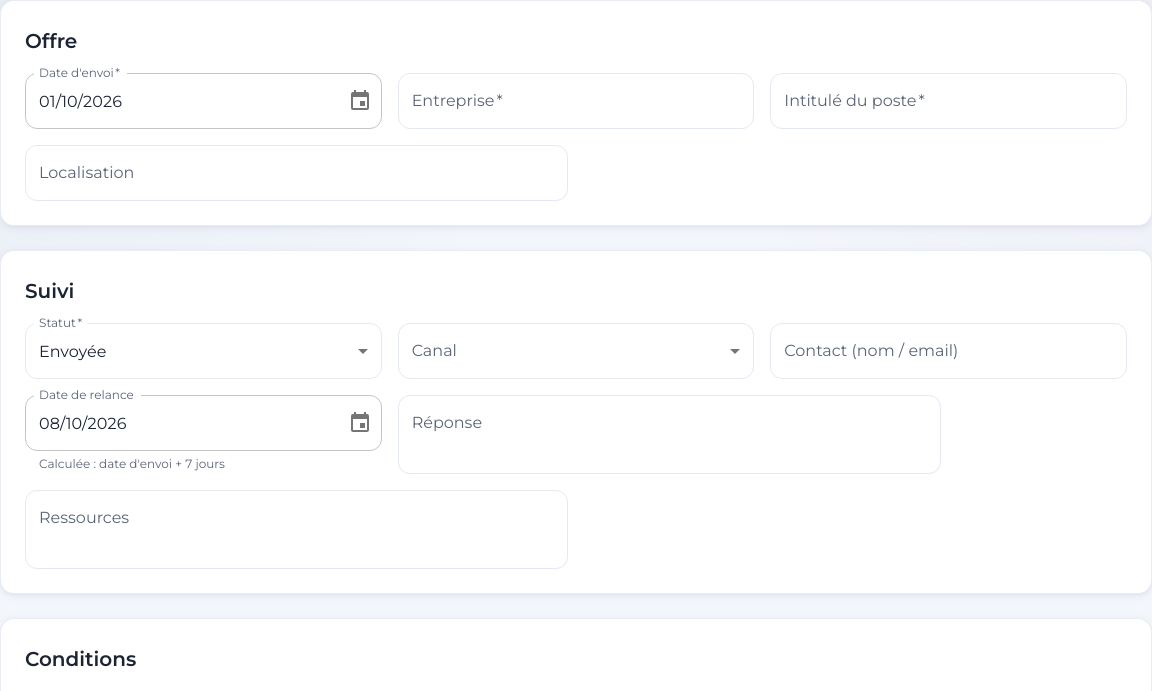
Scenario: ApplicationForm › asks which channel only when "Other" is chosen
This screenshot has width=1152, height=691.
Expected: the field labelled "Quel canal ?" is not shown
Click the dropdown named "Canal" next to "Canal" at x=576, y=351, box x1=398 y1=323 x2=754 y2=379
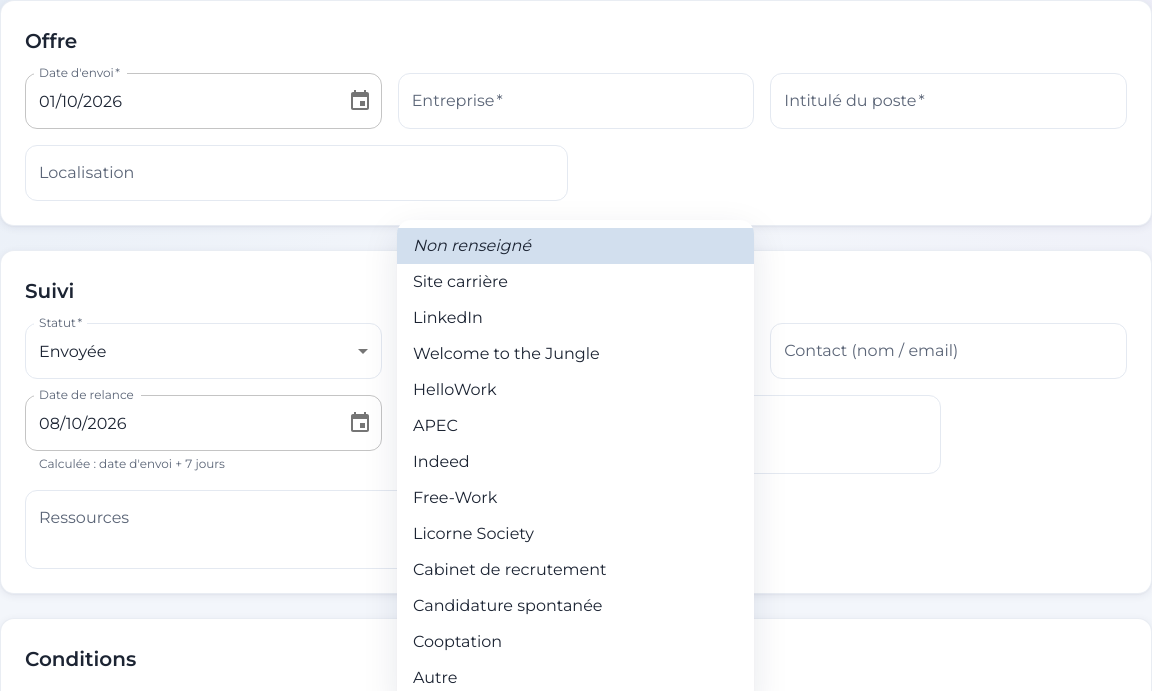
Click the option "Autre" at x=435, y=678, box x1=413 y1=668 x2=457 y2=687
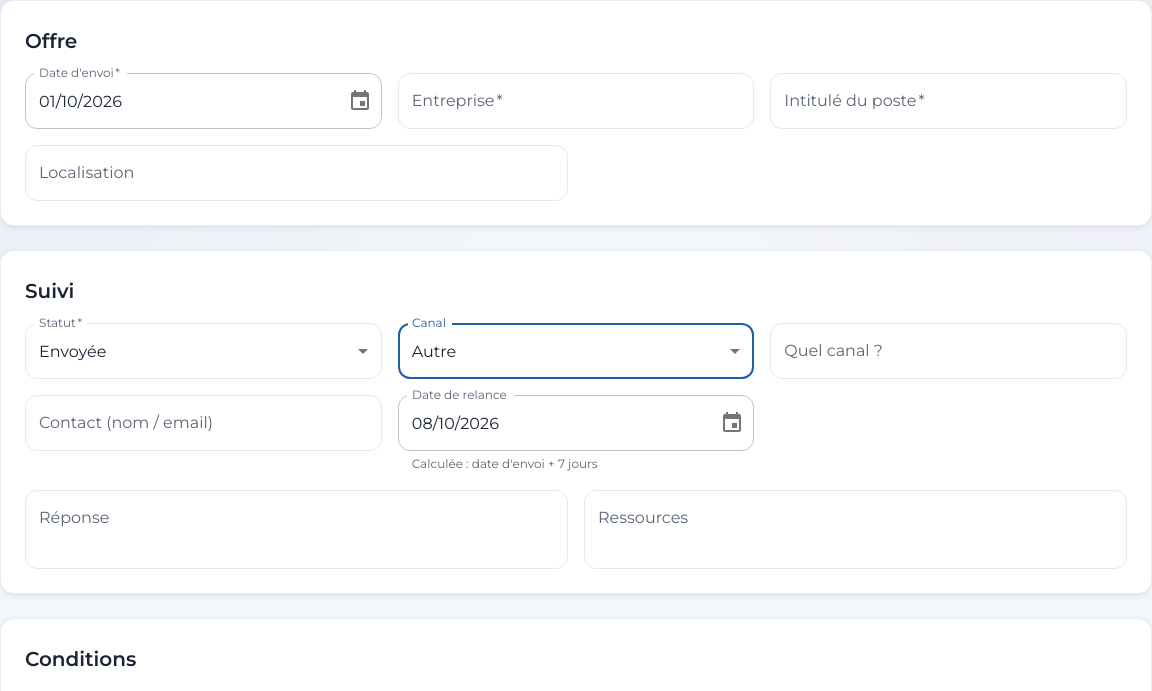
Expected: the field labelled "Quel canal ?" is shown, x1=770 y1=323 x2=1127 y2=379
